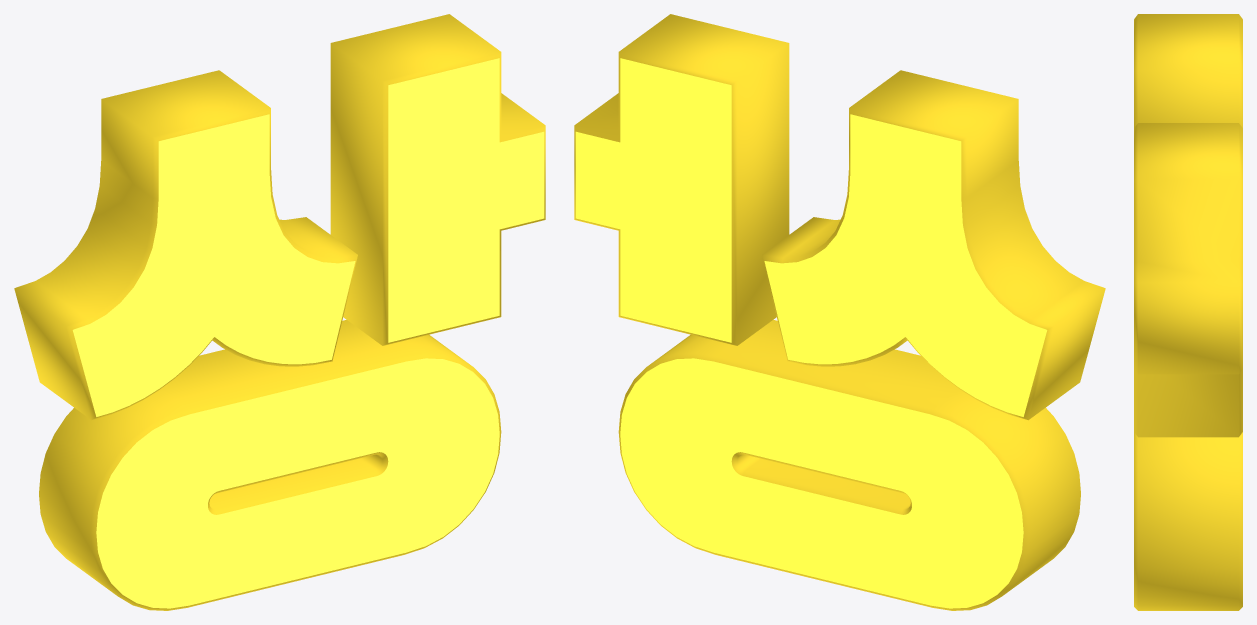
3 views of the same model, side by side, from view 1: azimuth 30°, elevation 25°; view 2: azimuth 150°, elevation 25°; view 3: azimuth 270°, elevation 25° (orthographic). The views are drawn at different scales.
Parts seen in each view (by area): view 1: glyph; view 2: glyph; view 3: glyph.
Part boxes in pixels (x1,y1,x2,y2): glyph: (14,14,545,610); glyph: (574,14,1105,610); glyph: (1134,14,1242,610).
Size of the model in its own units: 0.0802 by 0.0766 by 0.0162.
